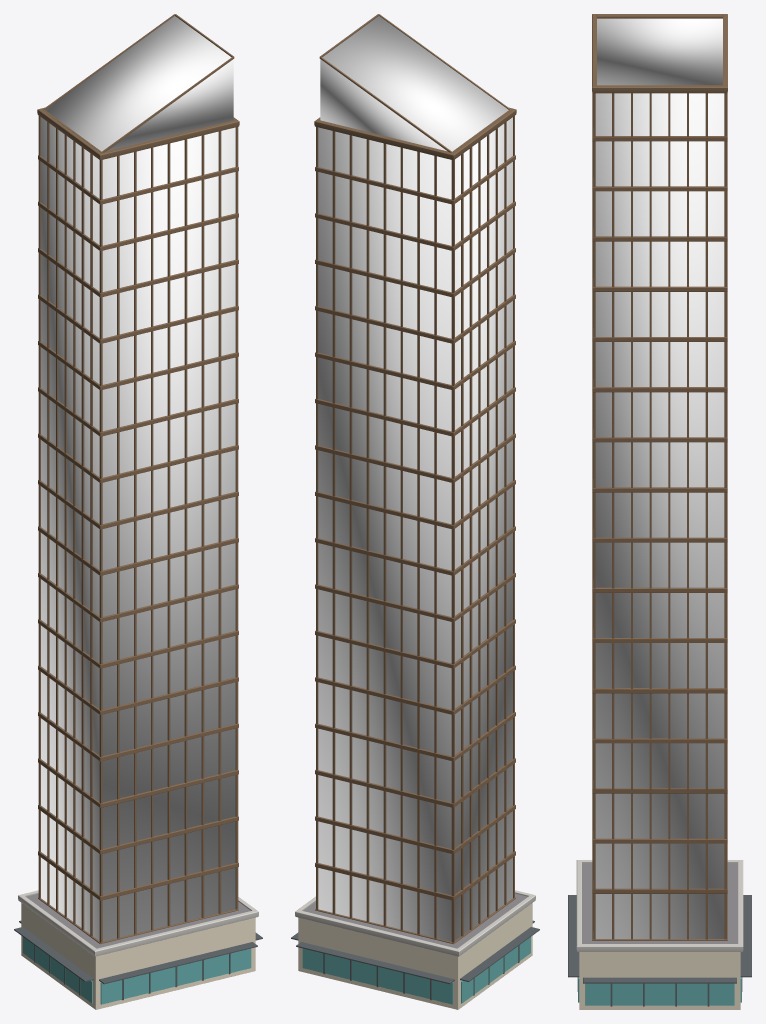
File: tower_slant_dark.glb
3 views of the same model, side by side, from view 1: azimuth 30°, elevation 25°; view 2: azimuth 150°, elevation 25°; view 3: azimuth 270°, elevation 25° (orthographic). The views are drawn at different scales.
Visible parts, largest first — view 1: curtain, mullions, tower trim, tower props; view 2: curtain, mullions, tower trim, tower props; view 3: curtain, tower trim, mullions, tower props.
Part boxes in pixels (box(x1,y1,x2,y2)): curtain: box(41, 16, 235, 941); mullions: box(34, 14, 238, 1000); tower trim: box(18, 107, 258, 1009); tower props: box(14, 920, 262, 1004); curtain: box(318, 16, 512, 941); mullions: box(316, 14, 519, 1000); tower trim: box(295, 107, 535, 1009); tower props: box(291, 920, 539, 1004); curtain: box(595, 18, 724, 938); tower trim: box(576, 14, 743, 1009); mullions: box(577, 15, 742, 1006); tower props: box(568, 895, 751, 1005).
Bounding box in the file's own units: 28.9 × 141 × 23.9.
